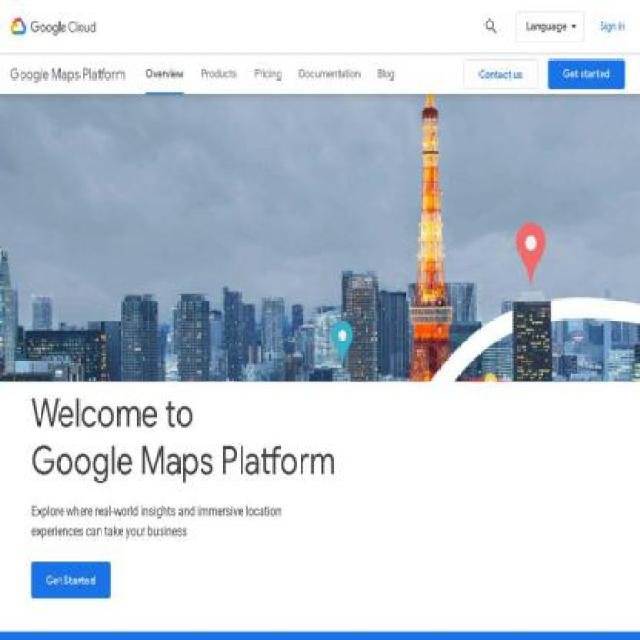button: (31, 562, 111, 600), (9, 13, 97, 41), (548, 59, 626, 90), (463, 59, 539, 90), (10, 64, 125, 84), (516, 12, 584, 42), (595, 12, 630, 42)
field: (476, 12, 507, 42)
